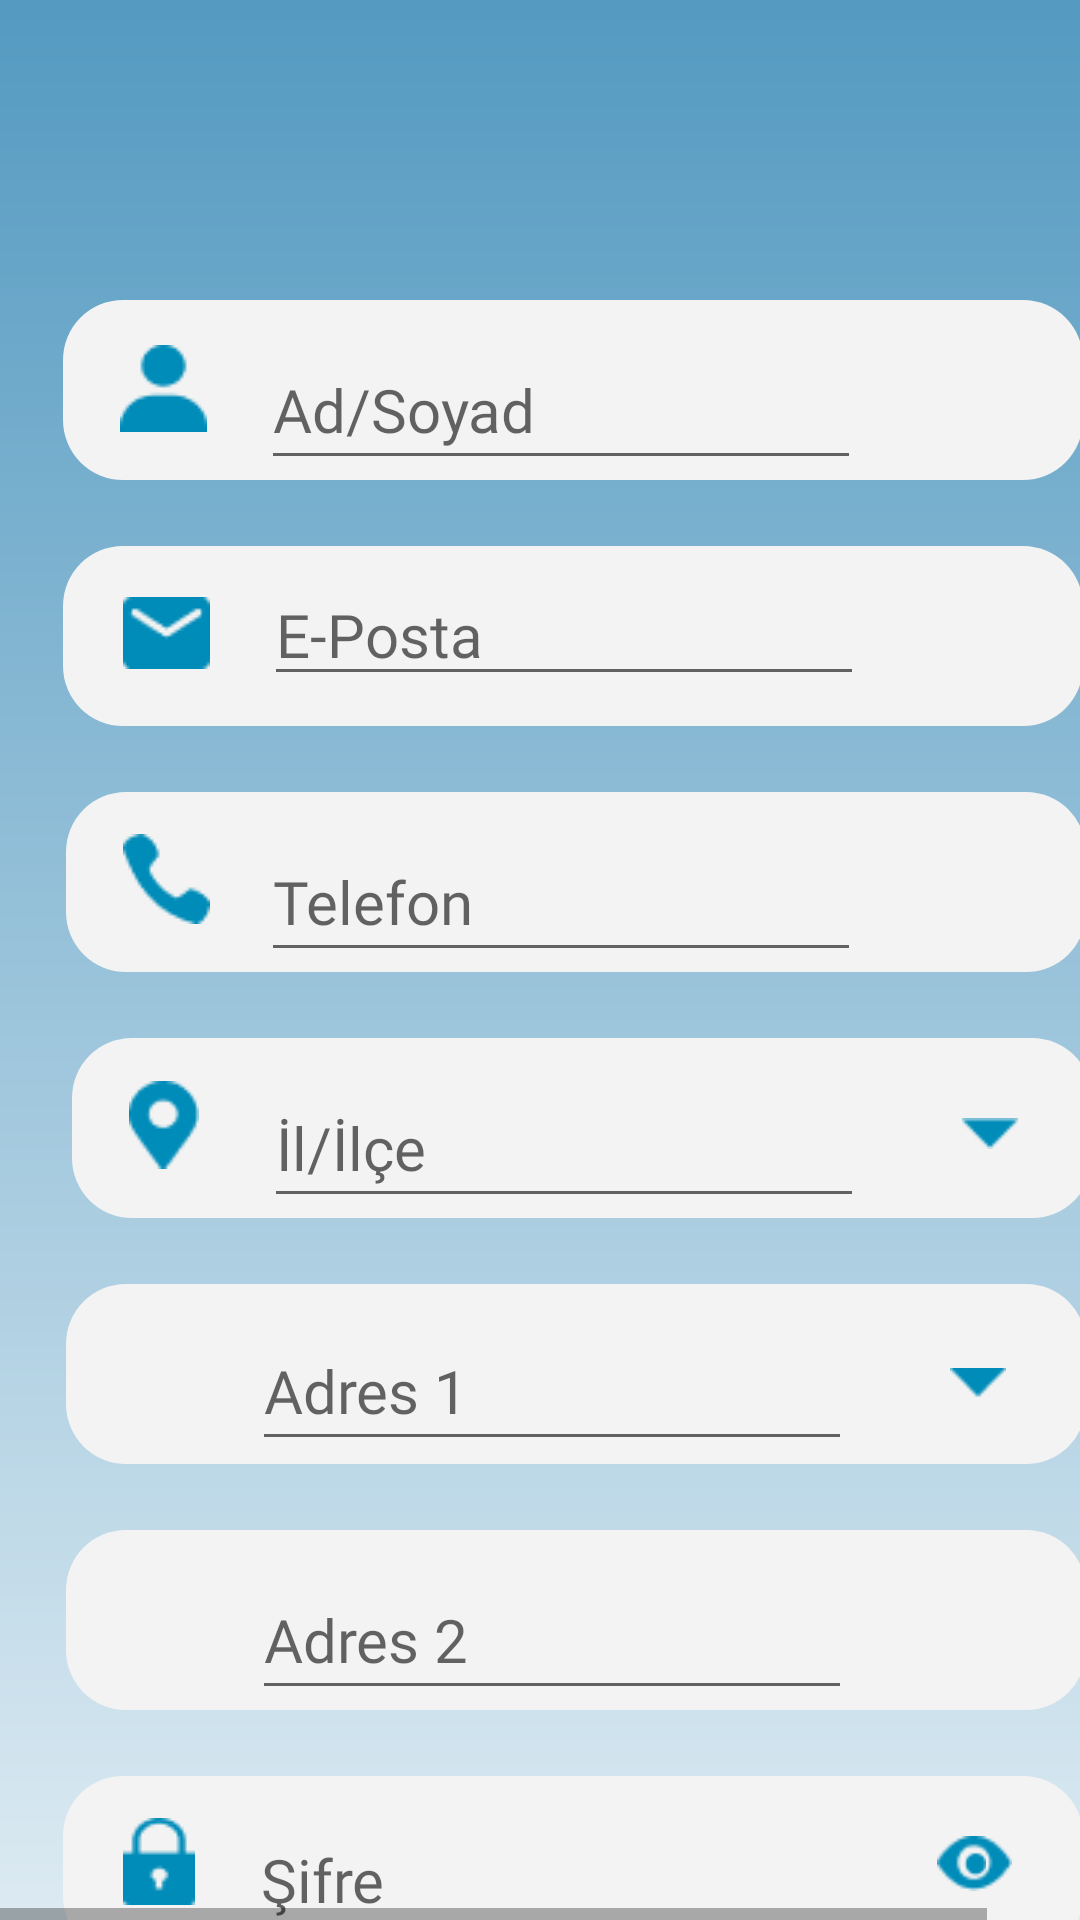

Where to tap for icons on this 1080×1920 app screen, as point (x, y):
map: point (164, 1125)
polygon: point (990, 1133), point (978, 1382)
